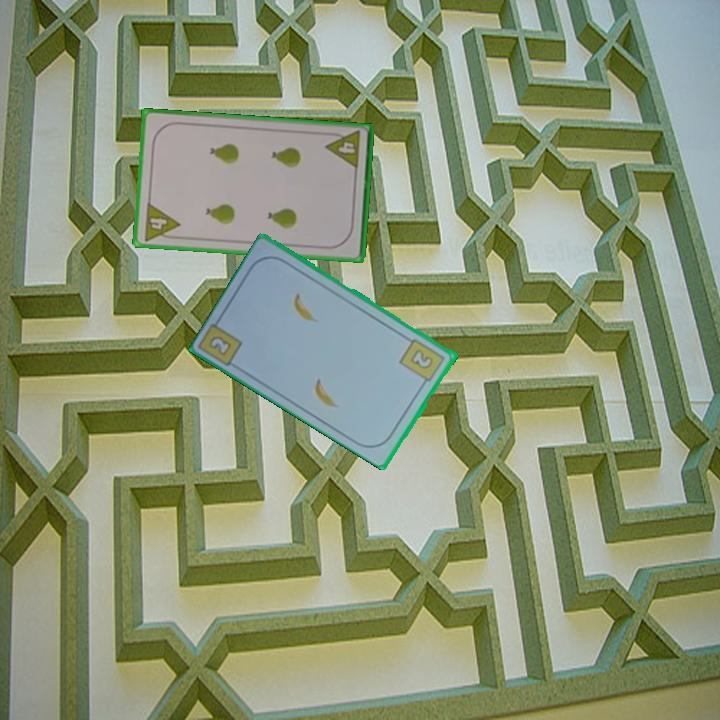2b: (396, 335, 448, 389), (206, 332, 235, 359)
4p: (140, 199, 182, 244), (323, 127, 363, 172)
